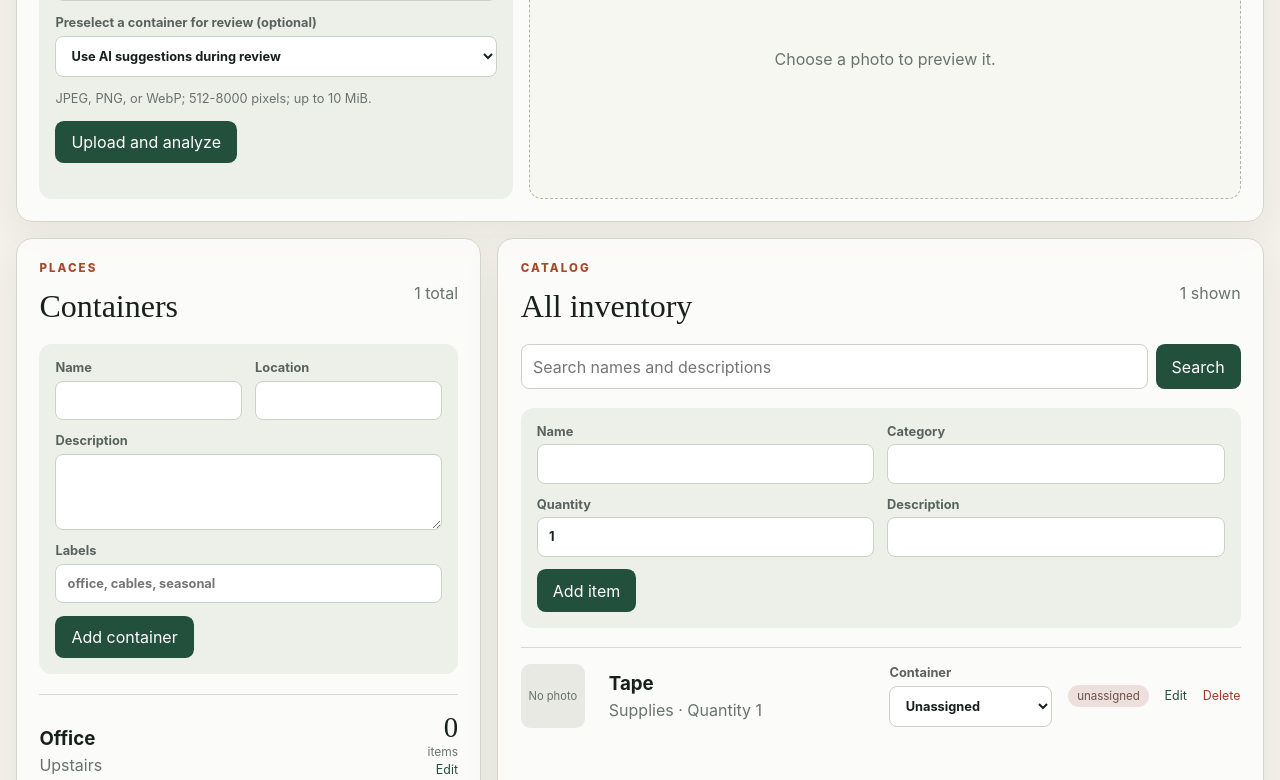
Test: creates a container from the webpage
The width and height of the screenshot is (1280, 780).
(page scrolled)
Expected: the heading "Office" is shown, left=39, top=727, right=102, bottom=750
In the field labelled "Name" below "Location": (149, 401) left=55, top=381, right=242, bottom=420, type "Garage shelf"
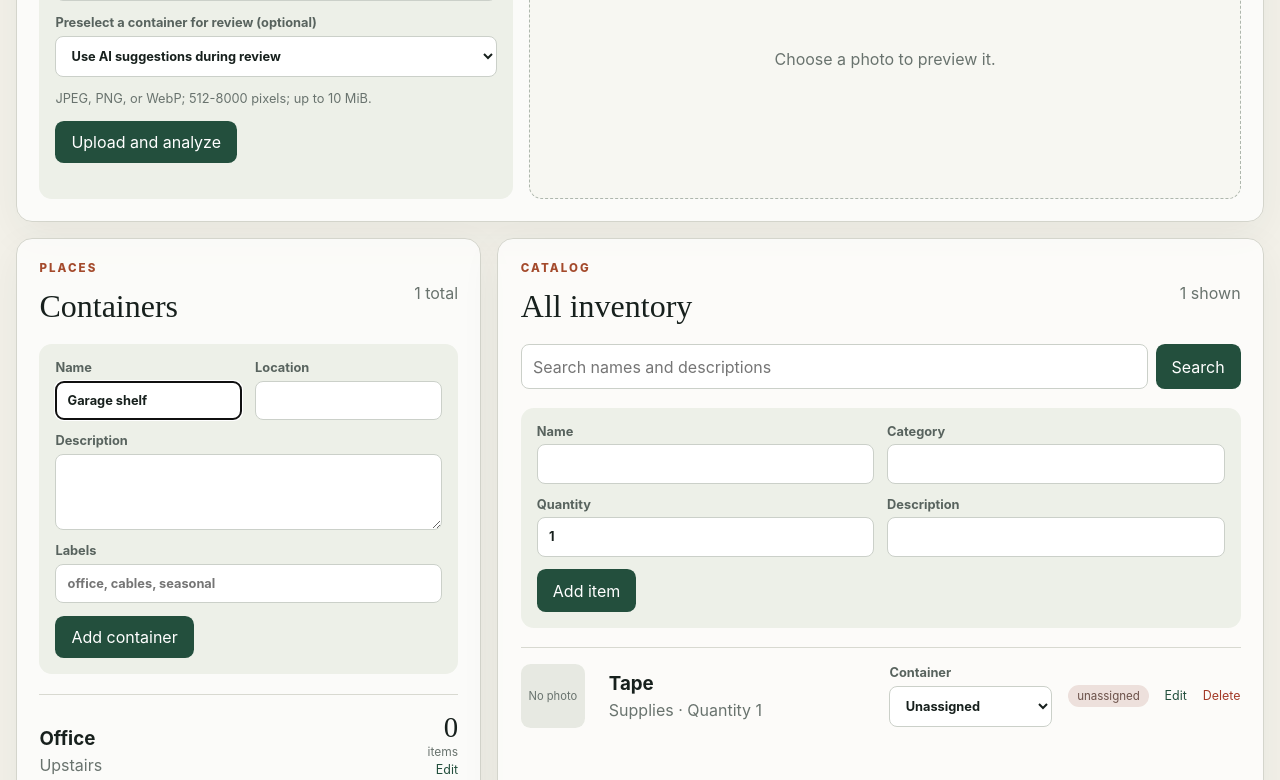
Click the button "Add container": (125, 637) left=55, top=616, right=194, bottom=658
(page scrolled)
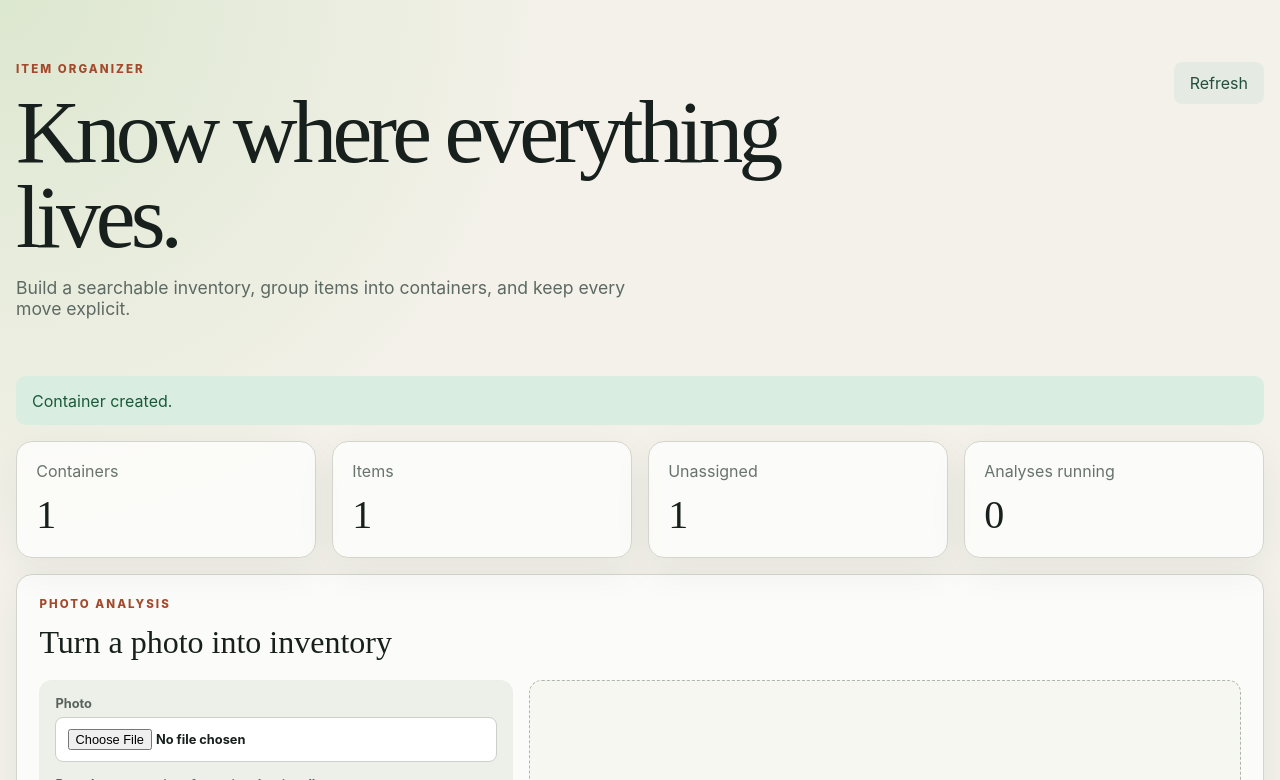
Expected: the message reads "Container created.", left=32, top=391, right=172, bottom=411
